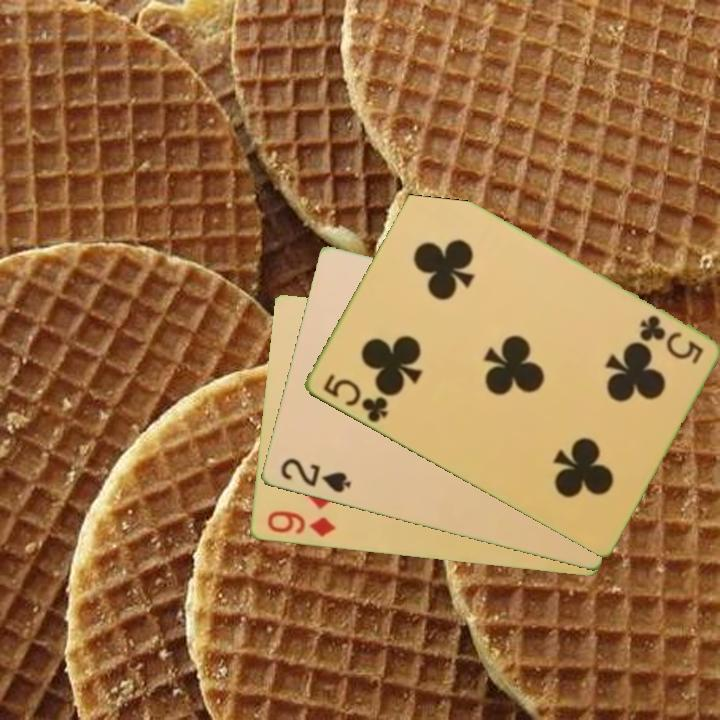2s: (276, 455, 354, 496)
5c: (635, 311, 706, 367), (319, 371, 391, 426)
9d: (263, 507, 339, 540)
